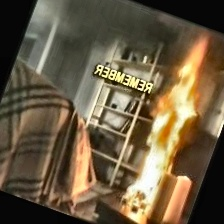fire: (119, 18, 224, 208)
